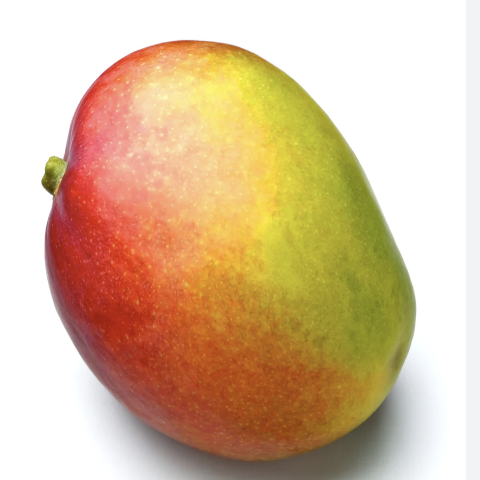mango: (9, 7, 449, 480)
